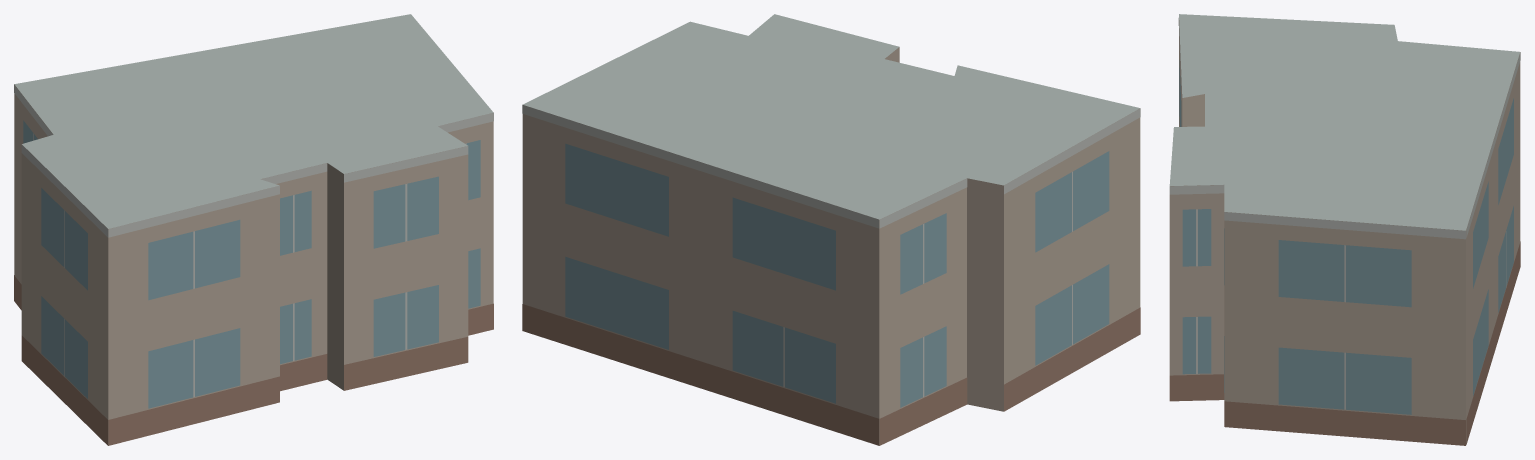
Rendered from survey-upis-32796898.glb.
3 views of the same model, side by side, from view 1: azimuth 30°, elevation 25°; view 2: azimuth 150°, elevation 25°; view 3: azimuth 270°, elevation 25° (orthographic). The views are drawn at different scales.
Parts seen in each view (by area): view 1: survey-upis-32796898.tmp; view 2: survey-upis-32796898.tmp; view 3: survey-upis-32796898.tmp.
Boxes of the visible parts, x1,y1,x2,y2 form: survey-upis-32796898.tmp: [14, 14, 493, 445]; survey-upis-32796898.tmp: [522, 14, 1140, 445]; survey-upis-32796898.tmp: [1169, 14, 1520, 445].
Bounding box in the file's own units: 13.19 × 6.1 × 9.02.
